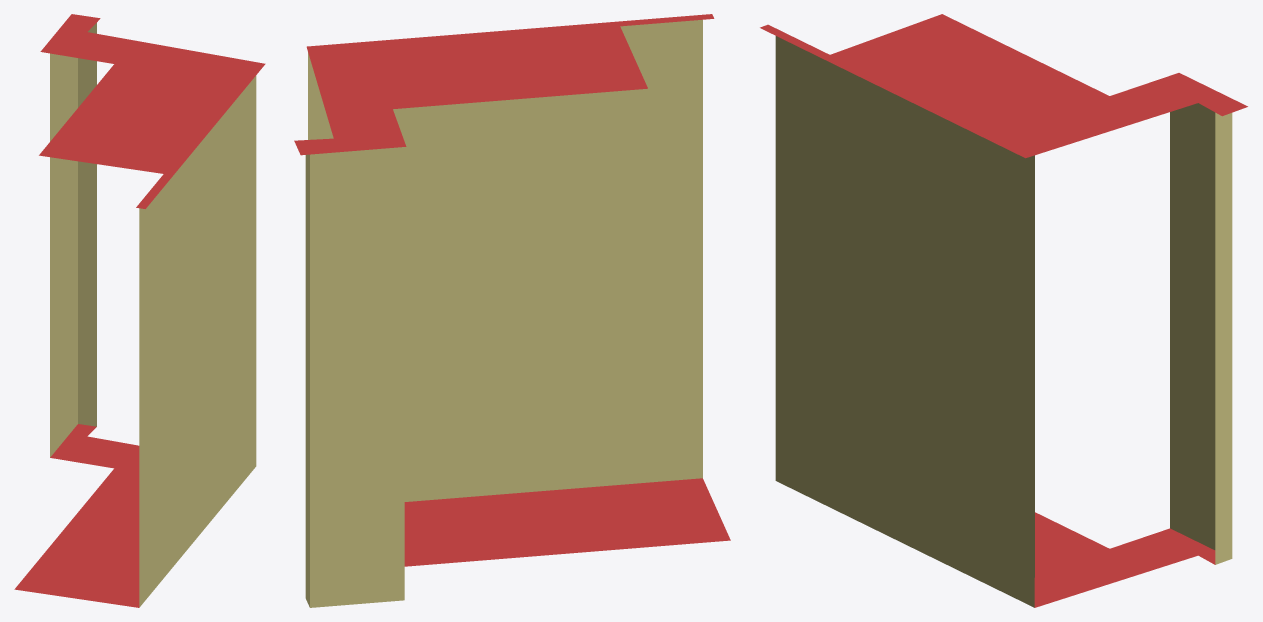
3 views of the same model, side by side, from view 1: azimuth 30°, elevation 25°; view 2: azimuth 150°, elevation 25°; view 3: azimuth 270°, elevation 25° (orthographic). The views are drawn at different scales.
Size of the model in its own units: 8.74 by 10.58 by 10.8.
